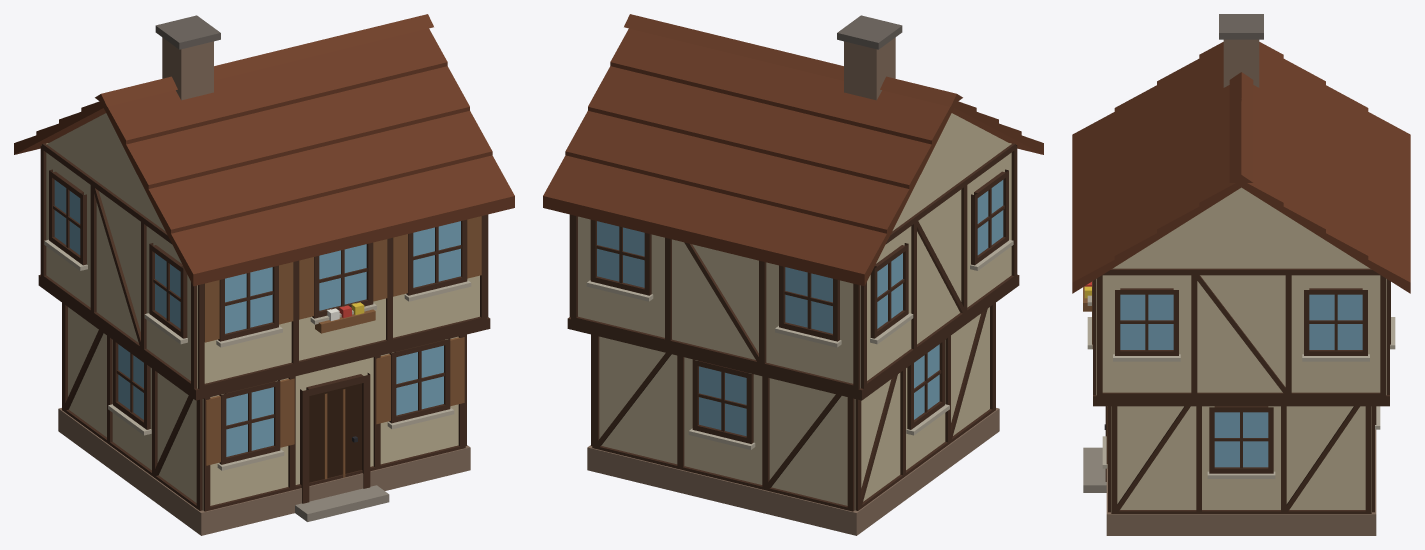
The model's file is house_03_timber_sobrado.fbx.
3 renders of one model, left to right at view 1: azimuth 30°, elevation 25°; view 2: azimuth 150°, elevation 25°; view 3: azimuth 270°, elevation 25°, orthographic. The views are drawn at different scales.
Visible parts, largest first — view 1: house_03_timber_sobrado; view 2: house_03_timber_sobrado; view 3: house_03_timber_sobrado.
Part boxes in pixels (x1=…): house_03_timber_sobrado: x1=14, y1=14, x2=514, y2=535; house_03_timber_sobrado: x1=543, y1=14, x2=1043, y2=535; house_03_timber_sobrado: x1=1072, y1=14, x2=1410, y2=535.
Size of the model in its own units: 6 by 7.72 by 5.7.
